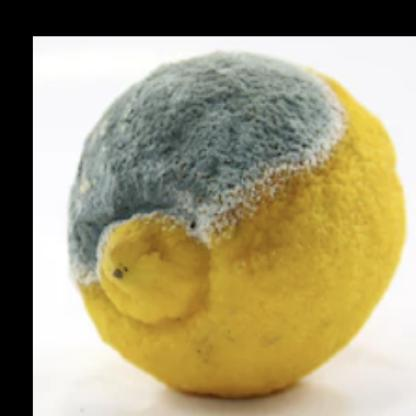rotten: (68, 53, 404, 395)
